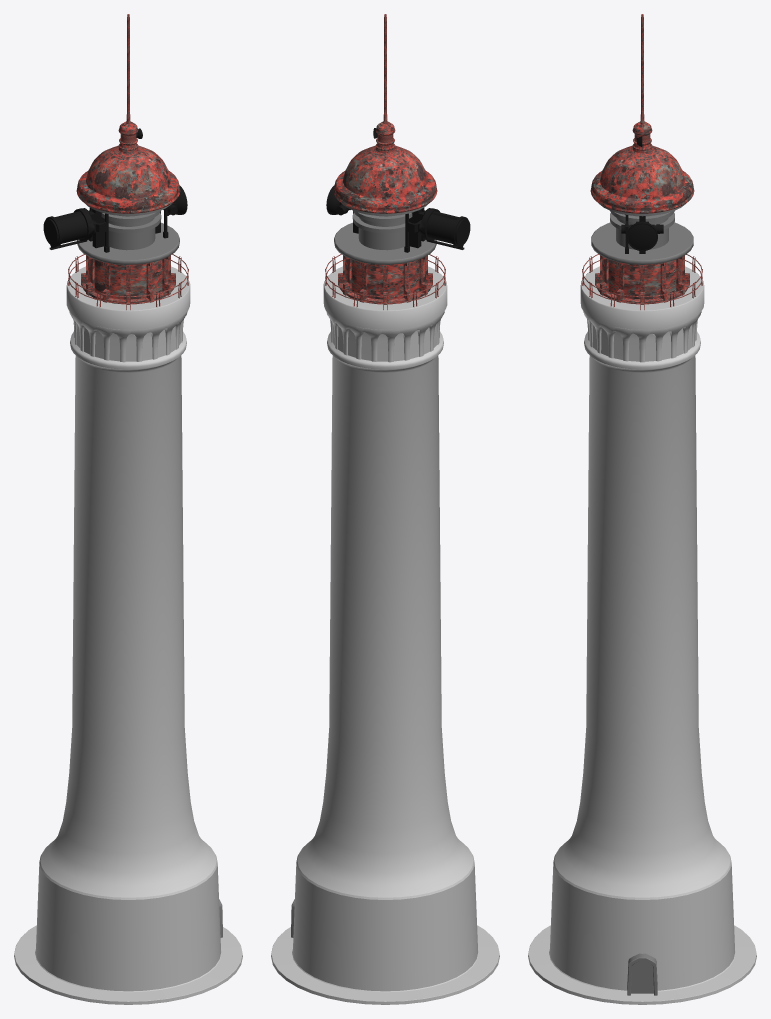
Rendered from BG_002_toudai_03_03.fbx.
3 views of the same model, side by side, from view 1: azimuth 30°, elevation 25°; view 2: azimuth 150°, elevation 25°; view 3: azimuth 270°, elevation 25° (orthographic).
Parts seen in each view (by area): view 1: ko001, オブジェクト040, オブジェクト003, オブジェクト002; view 2: ko001, オブジェクト040, オブジェクト003, オブジェクト002; view 3: ko001, オブジェクト040, オブジェクト003, オブジェクト002.
Part boxes in pixels (x1,y1,x2,y2): ko001: (14,266,242,1004); オブジェクト040: (68,14,188,310); オブジェクト003: (77,203,222,937); オブジェクト002: (43,128,187,252); ko001: (271,266,499,1004); オブジェクト040: (325,14,445,310); オブジェクト003: (291,203,436,937); オブジェクト002: (326,128,470,252); ko001: (528,266,756,1004); オブジェクト040: (582,14,702,310); オブジェクト003: (591,203,693,995); オブジェクト002: (621,136,663,253).
Bounding box in the file's own units: 641 × 2914 × 641.
